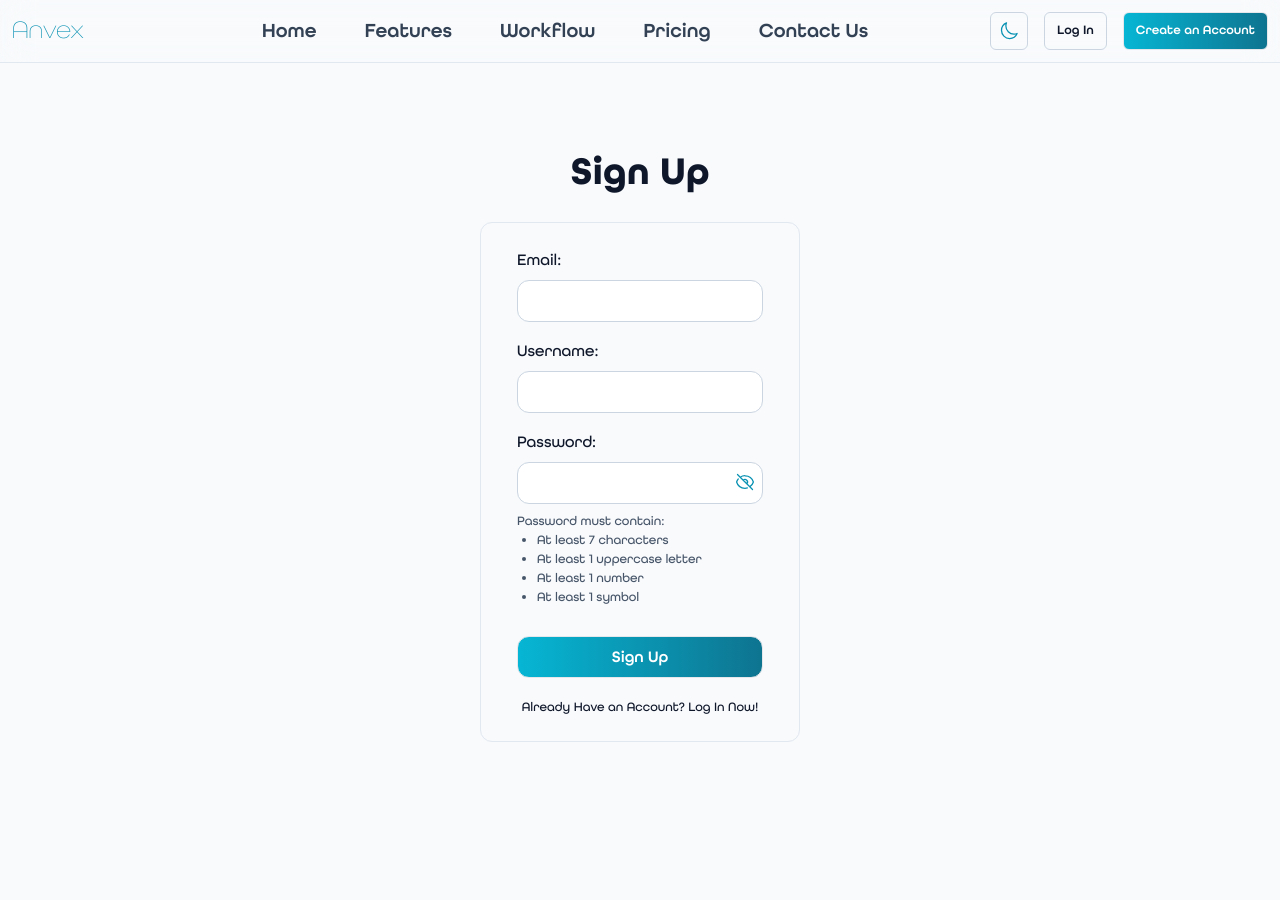
Test case: the form › links back to the login page with <Link>, so the bundle is not reloaded
The width and height of the screenshot is (1280, 900).
Expected: the element with test id "route-sign-up" is shown, [480, 148, 800, 742]
Click the link "Already Have an Account? Log In Now!".
click(640, 706)  # box [522, 698, 758, 714]
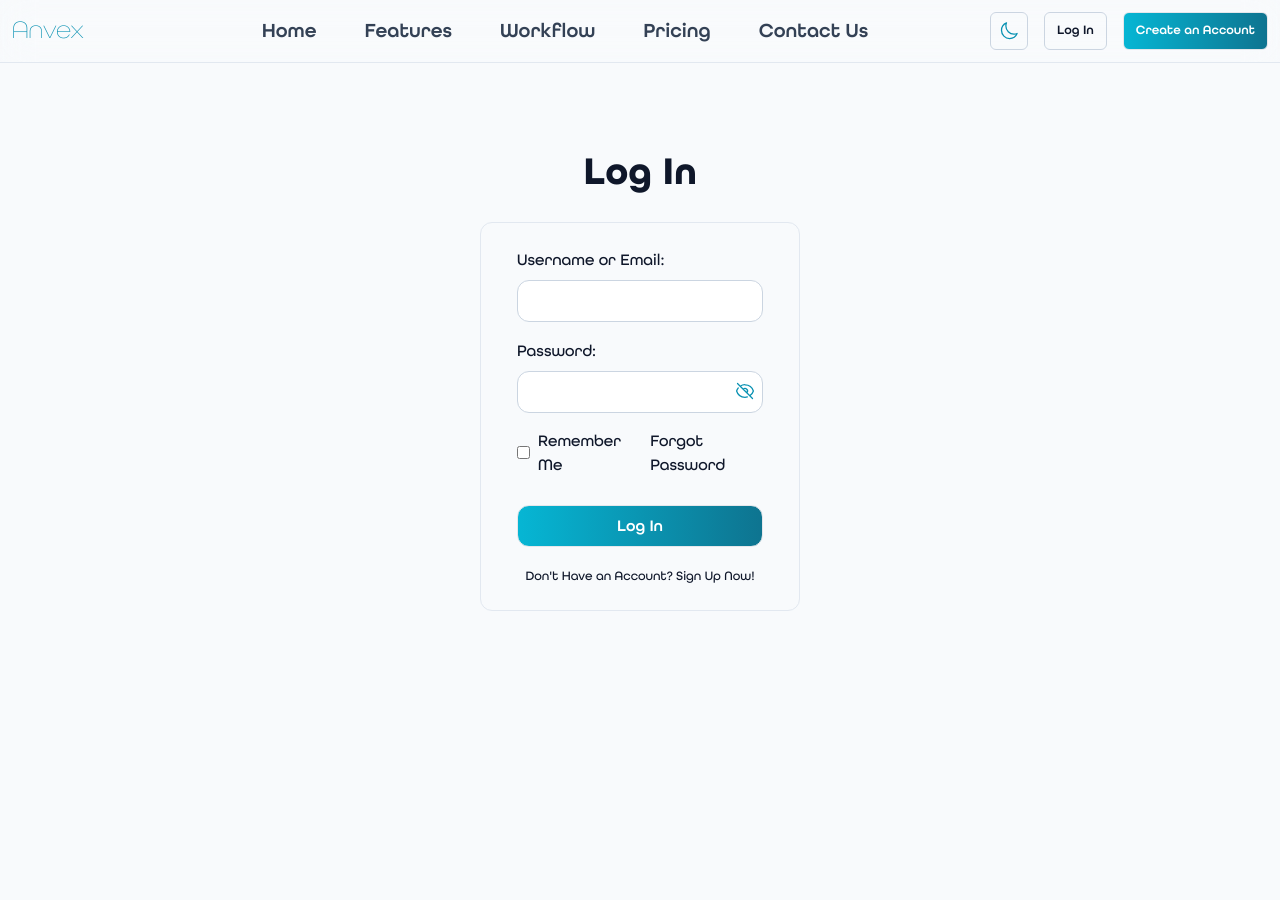
Now the element with test id "route-login" is shown, box [480, 148, 800, 611]
